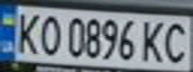0: (63, 14, 84, 58)
6: (118, 16, 142, 62)
8: (81, 15, 103, 60)
9: (100, 16, 121, 61)
C: (160, 19, 193, 64)
K: (136, 17, 169, 64), (9, 9, 42, 55)
O: (33, 11, 63, 56)
